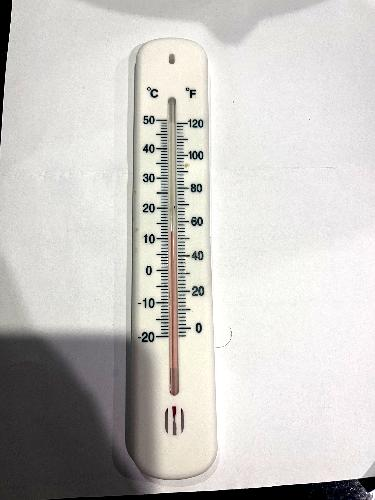thermo: (127, 40, 224, 473)
